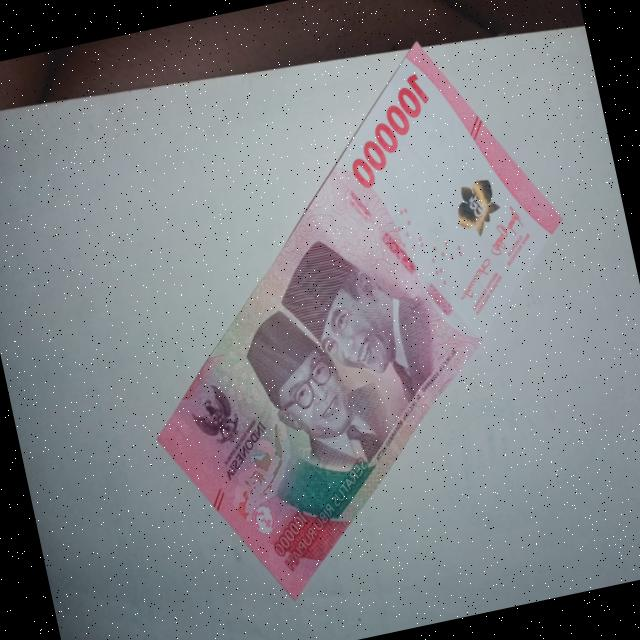100K: (84, 21, 636, 626)
